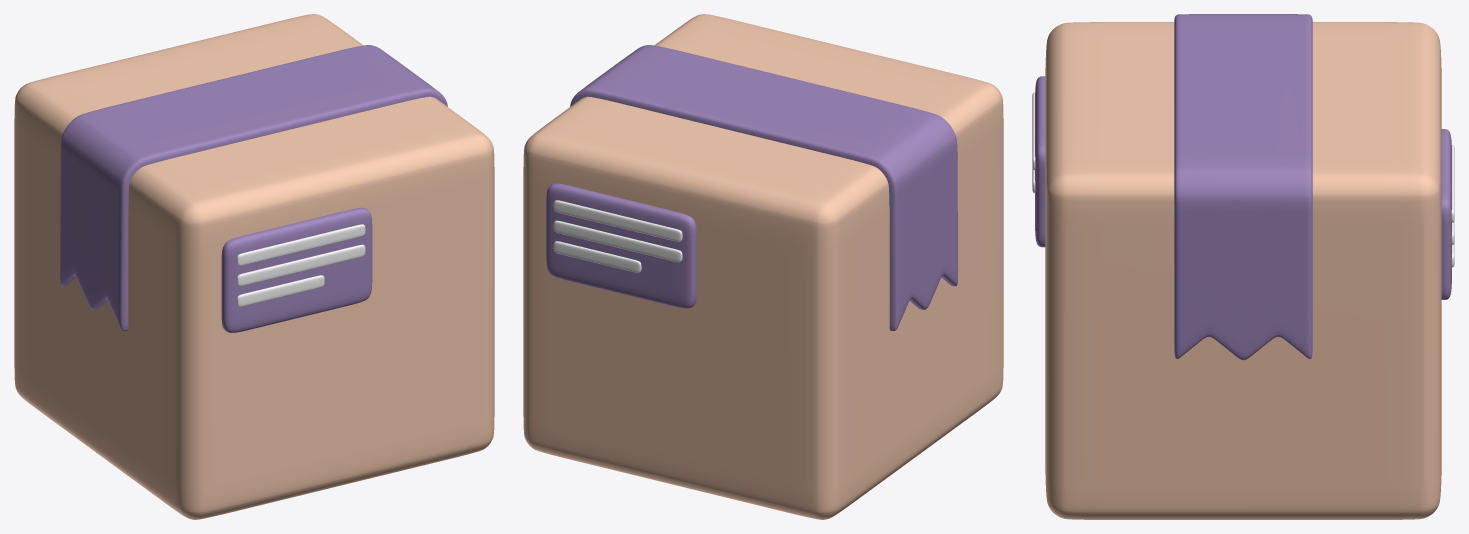
File: delivery-tracking-1678123582128.glb
3 views of the same model, side by side, from view 1: azimuth 30°, elevation 25°; view 2: azimuth 150°, elevation 25°; view 3: azimuth 270°, elevation 25° (orthographic). The views are drawn at different scales.
Visible parts, largest first — view 1: Box.002, Details, Text; view 2: Box.002, Details, Text; view 3: Box.002, Details, Text.
Part boxes in pixels (x1,y1,x2,y2): Box.002: (14,14,494,519); Details: (59,45,447,332); Text: (236,224,365,306); Box.002: (523,14,1003,519); Details: (546,45,958,330); Text: (553,200,682,272); Box.002: (1045,22,1441,519); Details: (1035,14,1451,360); Text: (1032,92,1454,267).
Bounding box in the file's own units: 2.33 × 2.21 × 2.38.
